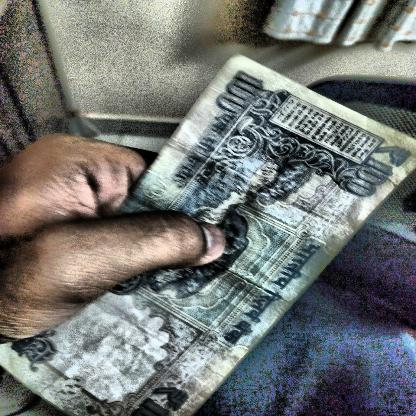Rs100: (331, 134, 416, 208), (205, 63, 277, 125)
